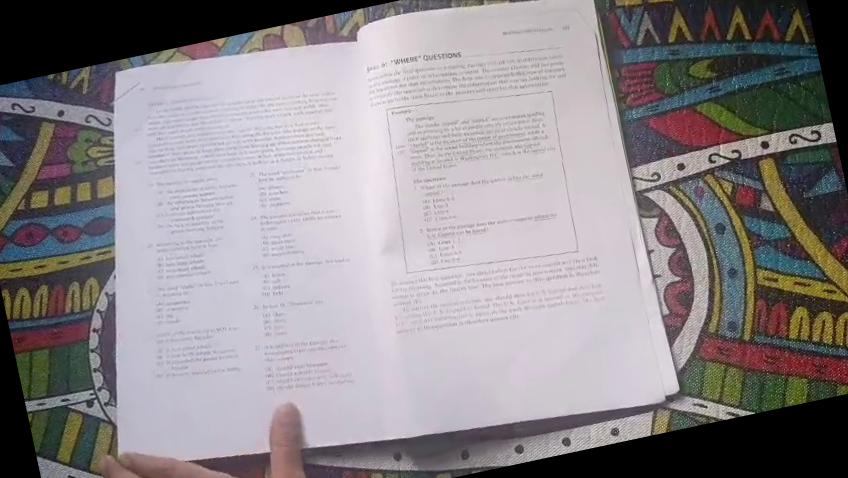Kertas: (50, 15, 442, 478), (334, 0, 678, 451)
